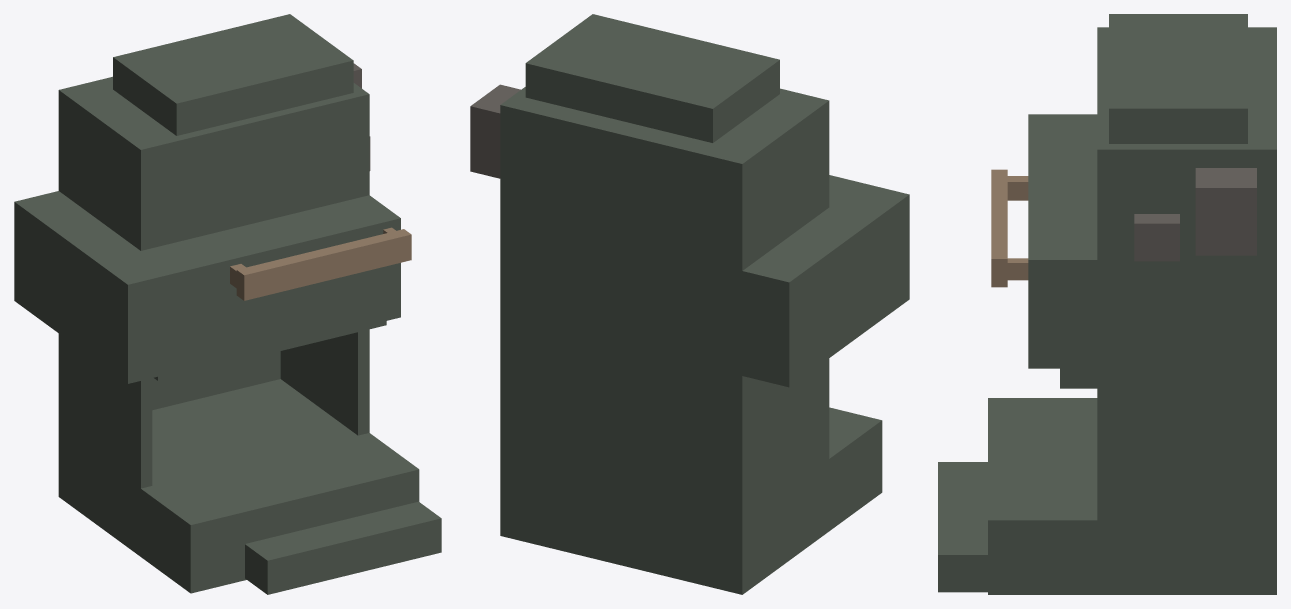
Rendered from greenbuildingTESTER.fbx.
The picture shows the model from 3 angles, left to right: view 1: azimuth 30°, elevation 25°; view 2: azimuth 150°, elevation 25°; view 3: azimuth 270°, elevation 25°; orthographic projection. The views are drawn at different scales.
Visible parts, largest first — view 1: GreenBuildingWHOLE, GreenBuildingSteps, GreenBuildingSign; view 2: GreenBuildingWHOLE, GreenBuildingBigFan; view 3: GreenBuildingWHOLE, GreenBuildingSteps, GreenBuildingBigFan, GreenBuildingSign, GreenBuildingSmallFan.
Part boxes in pixels (left/top/right/bottom): GreenBuildingWHOLE: left=14, top=14, right=419, bottom=593; GreenBuildingSteps: left=245, top=501, right=441, bottom=594; GreenBuildingSign: left=230, top=227, right=411, bottom=300; GreenBuildingWHOLE: left=500, top=14, right=909, bottom=594; GreenBuildingBigFan: left=470, top=84, right=520, bottom=178; GreenBuildingWHOLE: left=988, top=14, right=1276, bottom=594; GreenBuildingSteps: left=938, top=462, right=987, bottom=592; GreenBuildingBigFan: left=1195, top=168, right=1256, bottom=255; GreenBuildingSign: left=991, top=169, right=1028, bottom=287; GreenBuildingSmallFan: left=1134, top=214, right=1179, bottom=261.
Bounding box in the file's own units: 20.19 × 27.31 × 17.44.
